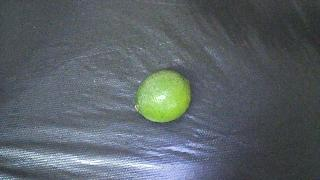LOCAL: (135, 70, 191, 122)
